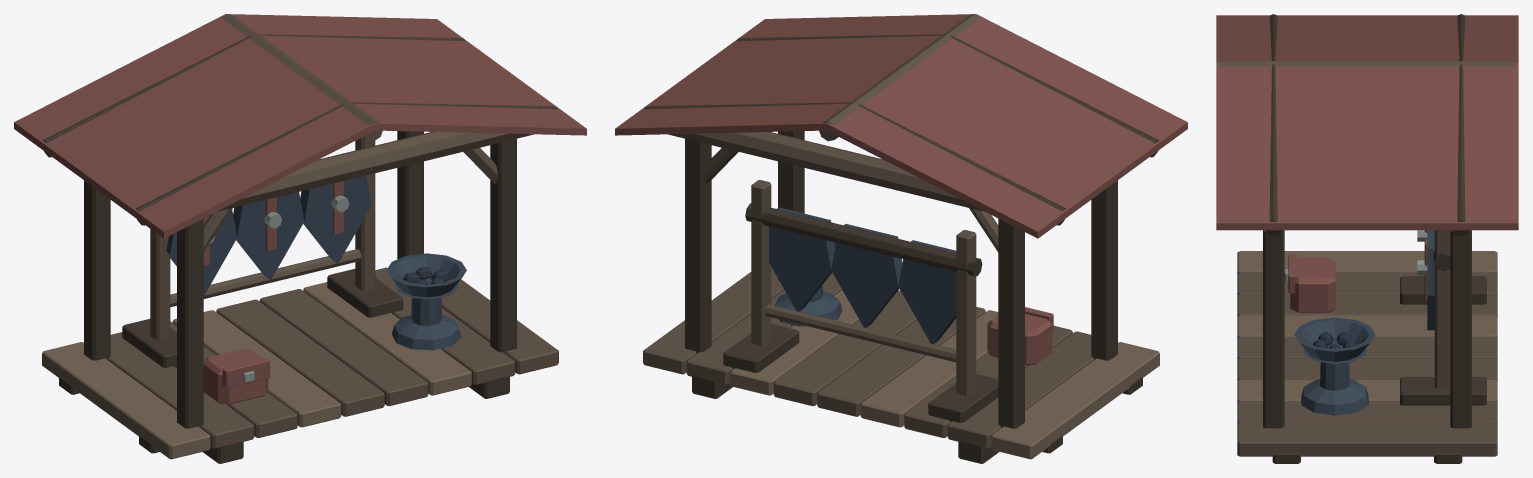
The model's file is guard-shelter.glb.
3 views of the same model, side by side, from view 1: azimuth 30°, elevation 25°; view 2: azimuth 150°, elevation 25°; view 3: azimuth 270°, elevation 25° (orthographic).
Parts seen in each view (by area): view 1: guard-shelter__body; view 2: guard-shelter__body; view 3: guard-shelter__body.
Boxes of the visible parts, x1,y1,x2,y2 form: guard-shelter__body: (14,14,586,463); guard-shelter__body: (615,14,1187,463); guard-shelter__body: (1216,14,1518,463).
Bounding box in the file's own units: 2.27 × 1.61 × 1.39.
